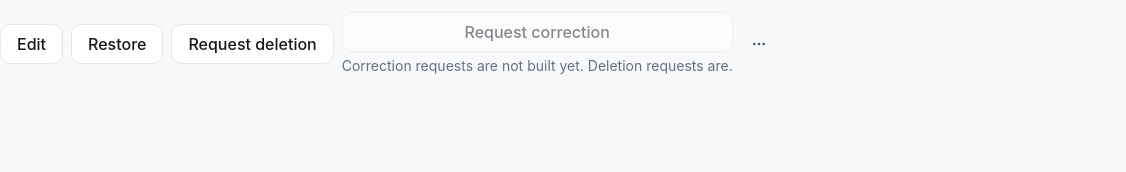
Scenario: archive and restore › leaves Restore available after a failed undo
The width and height of the screenshot is (1126, 172).
What coordinates should you click on to do the following:
click the button "Restore"
I would click on:
 (117, 44)
Its box is x1=71 y1=24 x2=163 y2=64.
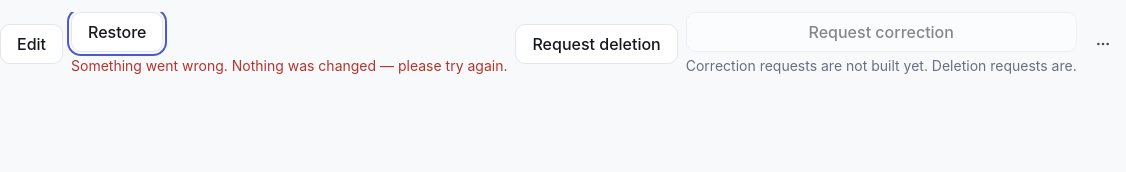
Now the message "Something went wrong. Nothing was changed — please try again." is shown, box x1=71 y1=56 x2=508 y2=76
